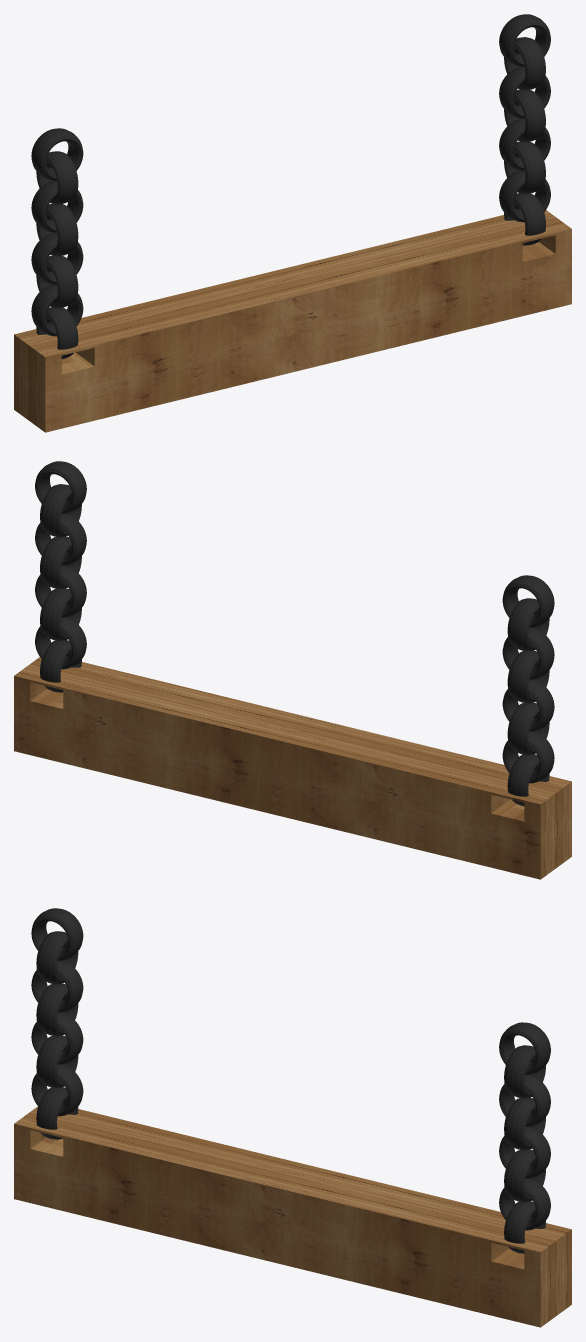
3 views of the same model, one above another, from view 1: azimuth 30°, elevation 25°; view 2: azimuth 150°, elevation 25°; view 3: azimuth 330°, elevation 25° (orthographic).
Parts seen in each view (by area): view 1: Cube, Torus.001, Torus; view 2: Cube, Torus.001, Torus; view 3: Cube, Torus.001, Torus.
Boxes of the visible parts, x1,y1,x2,y2 form: Cube: (14, 210, 571, 432); Torus.001: (31, 128, 83, 359); Torus: (499, 14, 550, 245); Cube: (14, 657, 571, 879); Torus.001: (502, 575, 554, 806); Torus: (35, 461, 86, 692); Cube: (14, 1106, 571, 1327); Torus.001: (31, 908, 83, 1139); Torus: (499, 1022, 550, 1253).
Bounding box in the file's own units: 3.38 × 1.74 × 0.3483.
17 materials, 1 textured.
